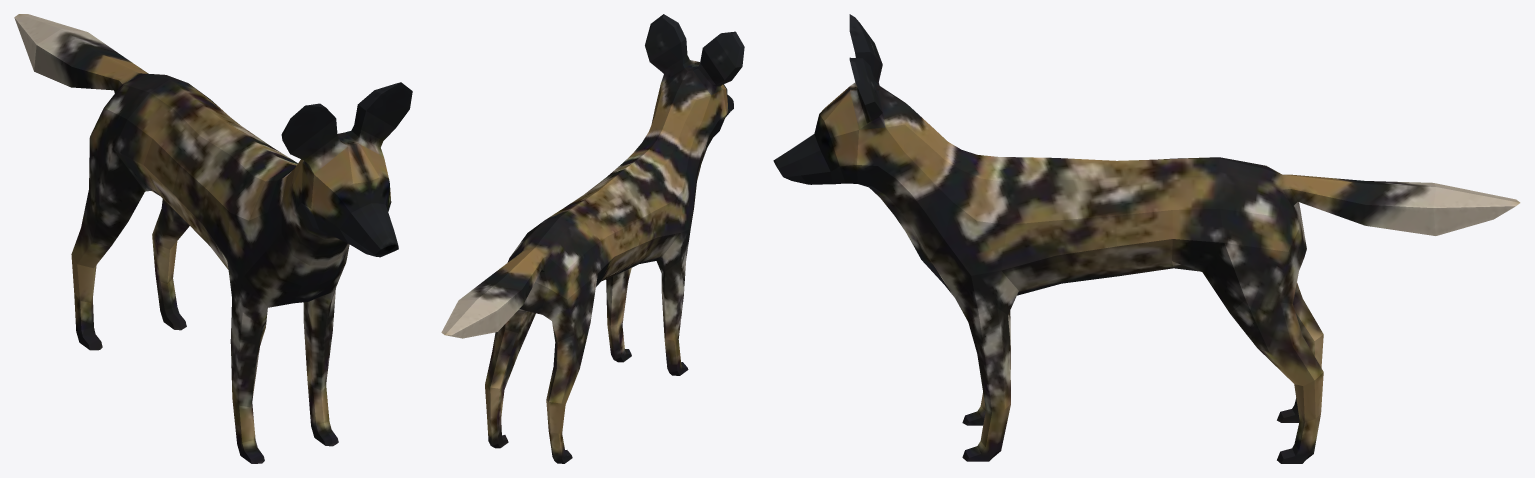
File: animals-african-wild-dog-000.glb
3 renders of one model, left to right at view 1: azimuth 30°, elevation 25°; view 2: azimuth 150°, elevation 25°; view 3: azimuth 270°, elevation 25°, orthographic. The views are drawn at different scales.
Parts seen in each view (by area): view 1: AfricanWildDog_mesh; view 2: AfricanWildDog_mesh; view 3: AfricanWildDog_mesh.
Part boxes in pixels (box(x1,y1,x2,y2)): AfricanWildDog_mesh: box(14, 14, 412, 463); AfricanWildDog_mesh: box(441, 14, 744, 463); AfricanWildDog_mesh: box(773, 14, 1520, 463).
Size of the model in its own units: 1.17 by 3.51 by 5.9.
1 material, 1 textured.
